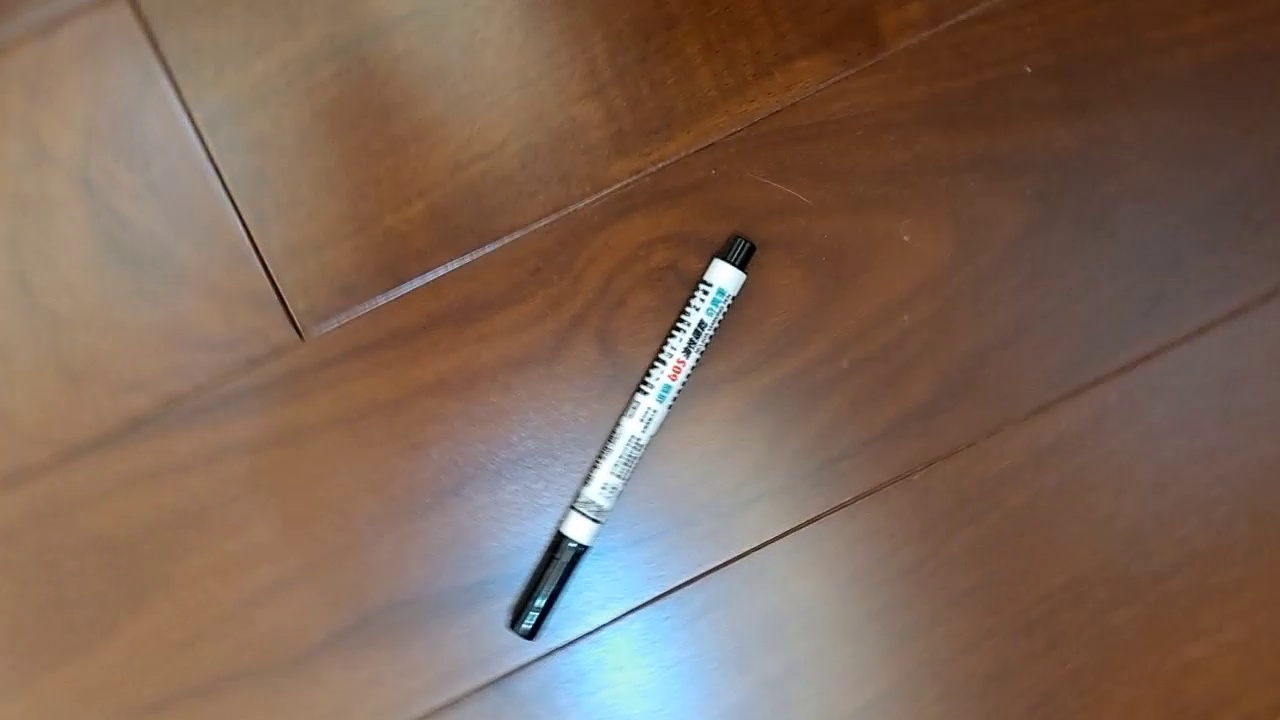pen: (505, 230, 759, 643)
